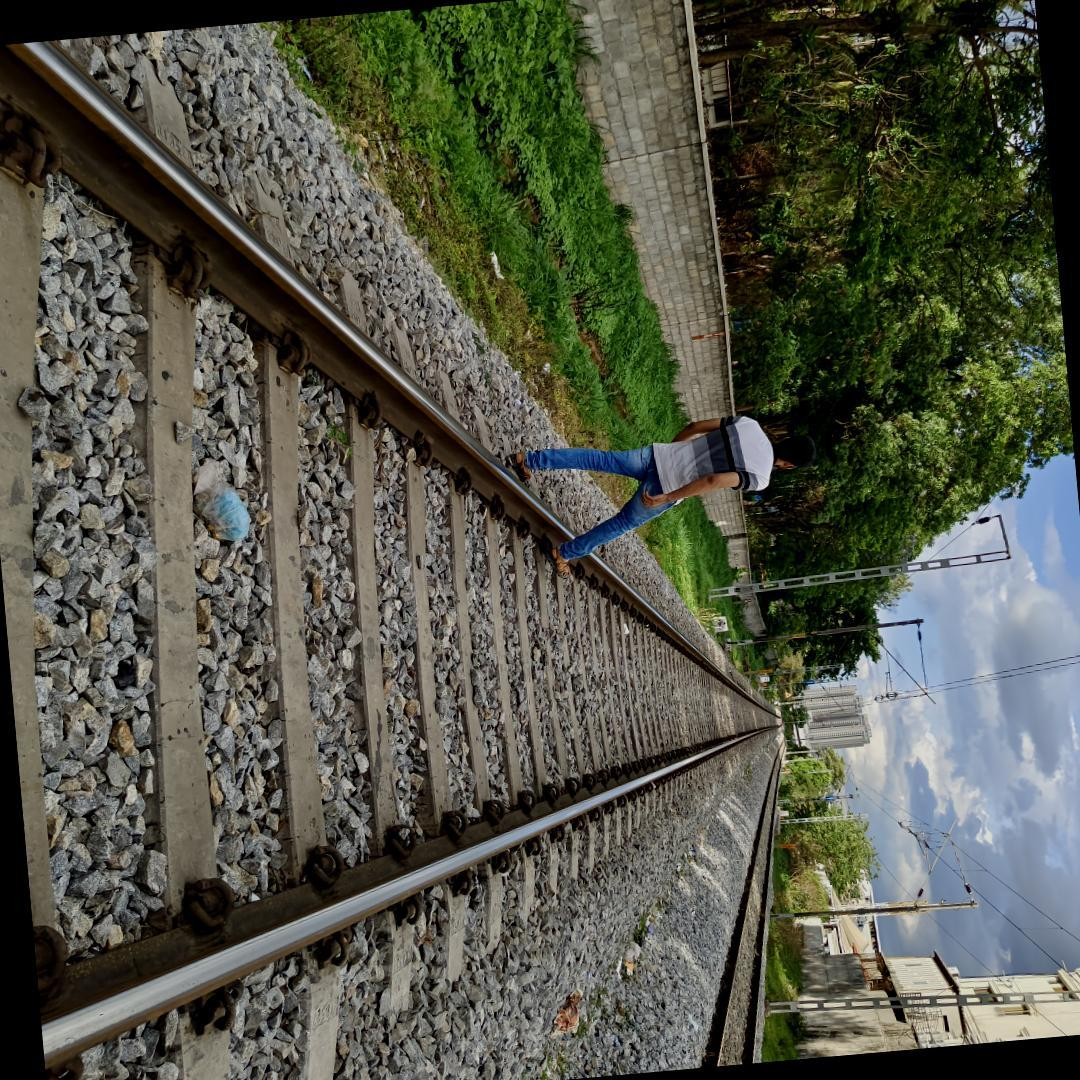standing: (504, 401, 828, 591)
